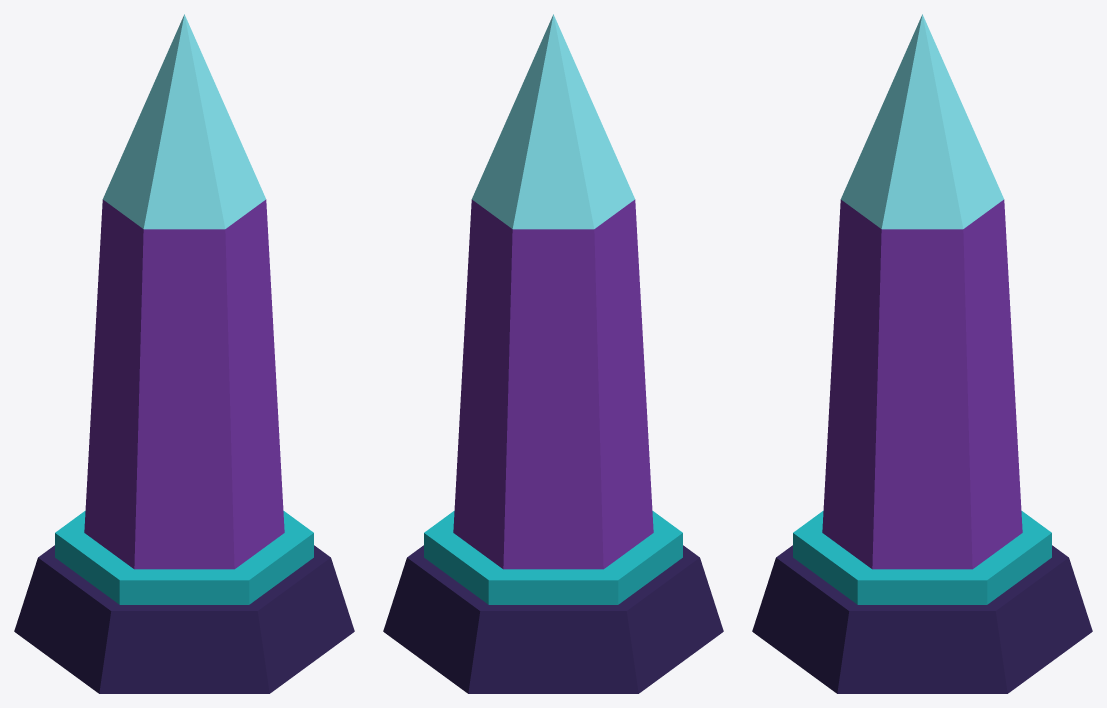
Rendered from cristal_monolito.obj.
3 views of the same model, side by side, from view 1: azimuth 30°, elevation 25°; view 2: azimuth 150°, elevation 25°; view 3: azimuth 270°, elevation 25° (orthographic).
Visible parts, largest first — view 1: cristal_monolito; view 2: cristal_monolito; view 3: cristal_monolito.
Part boxes in pixels (x1,y1,x2,y2): cristal_monolito: (14,14,354,693); cristal_monolito: (383,14,723,693); cristal_monolito: (752,14,1092,693).
Bounding box in the file's own units: 0.866 × 2 × 1.
